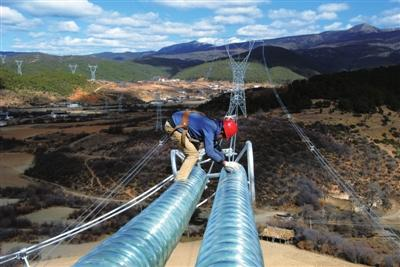gloves: (222, 160, 239, 173)
hard-hat: (223, 116, 238, 141)
person: (164, 110, 247, 179)
